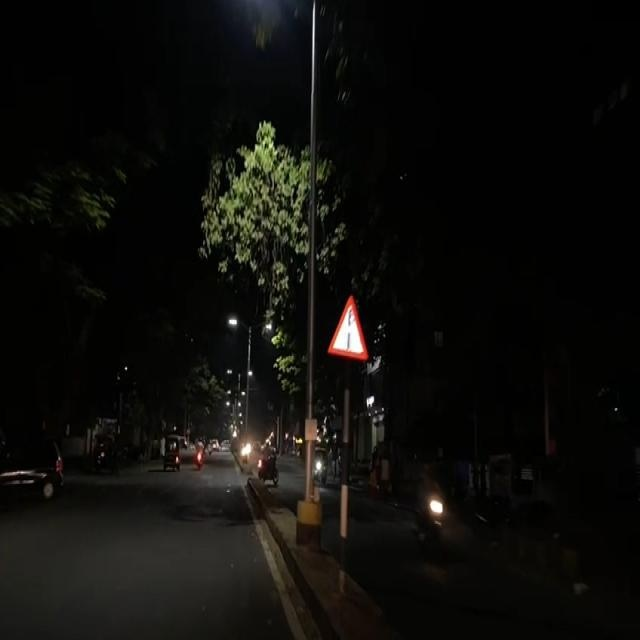bien_nguy_hiem: (326, 289, 370, 362)
